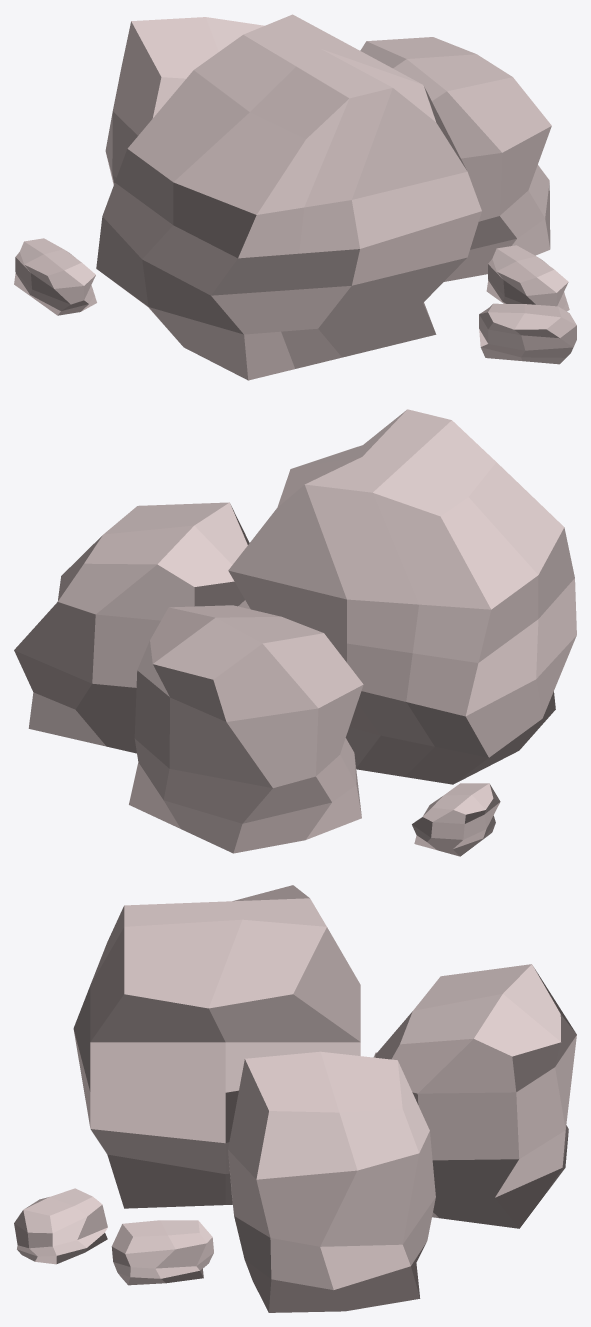
File: stones.gltf
3 renders of one model, top to bottom at view 1: azimuth 30°, elevation 25°; view 2: azimuth 150°, elevation 25°; view 3: azimuth 270°, elevation 25°, orthographic. The views are drawn at different scales.
Visible parts, largest first — view 1: Pedra (×6); view 2: Pedra (×4); view 3: Pedra (×5).
Boxes of the visible parts, x1,y1,x2,y2 form: Pedra (×6): [14, 14, 576, 380]; Pedra (×4): [14, 409, 576, 856]; Pedra (×5): [14, 885, 576, 1312].
Size of the model in its own units: 2.09 by 1.12 by 2.08.
1 material, 1 textured.
